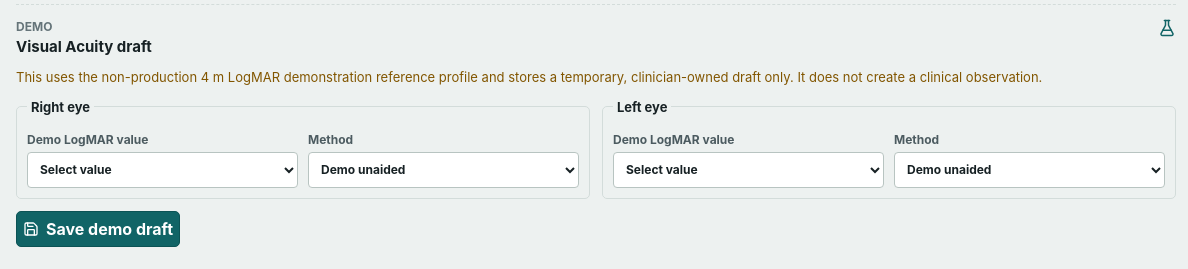
Scenario: VisualAcuityDraftDemo › requires both demonstration values before saving
This screenshot has width=1188, height=269.
Click the button "Save demo draft" at (98, 229), box [16,211,180,247]
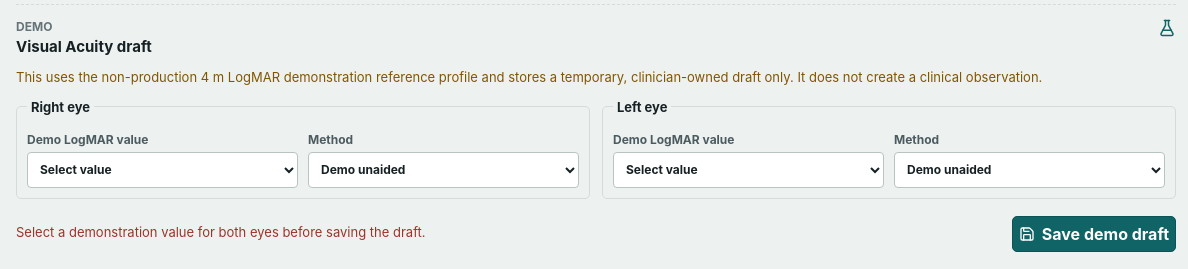
Expected: the message shows "Select a demonstration value for both eyes", [16,224,426,240]
